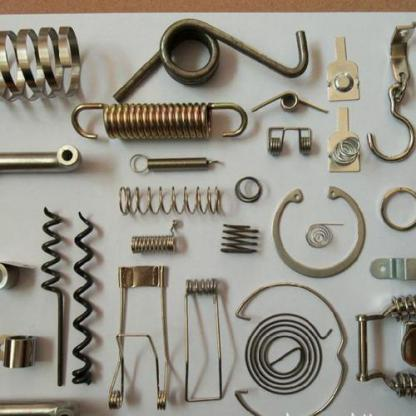FOD: (111, 15, 312, 100), (69, 97, 248, 143), (242, 312, 335, 398), (182, 274, 226, 402), (71, 209, 96, 387), (114, 184, 228, 219), (129, 218, 181, 254), (264, 123, 314, 158), (219, 221, 263, 257)
